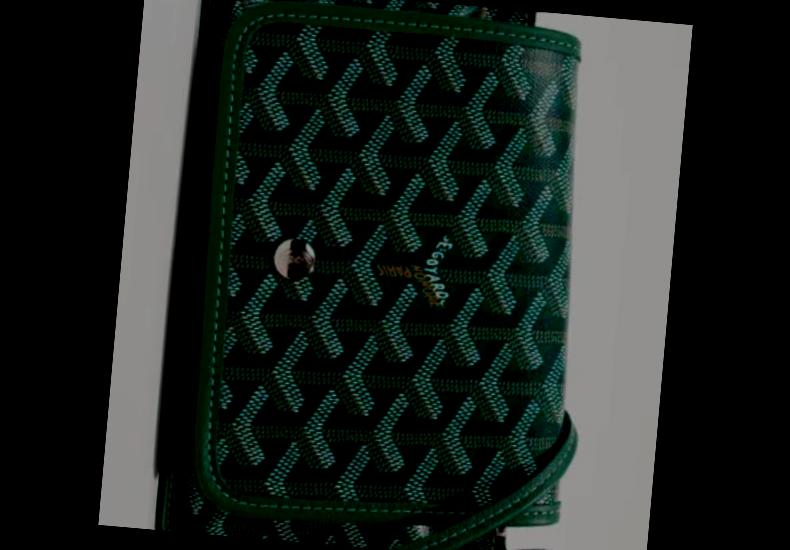GOYARD: (168, 0, 601, 550)
